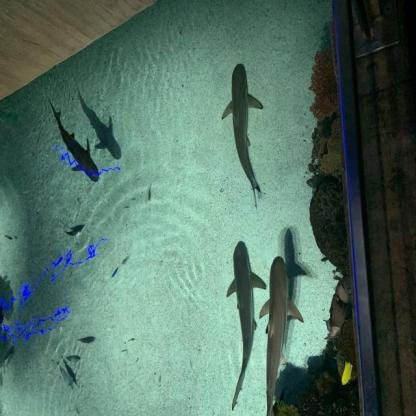fish: (54, 360, 75, 393), (339, 359, 354, 386), (146, 180, 158, 210), (64, 226, 84, 241), (62, 350, 82, 362), (109, 265, 122, 281)
shark: (258, 257, 306, 415), (225, 235, 267, 412), (220, 62, 264, 202), (47, 97, 99, 183)
